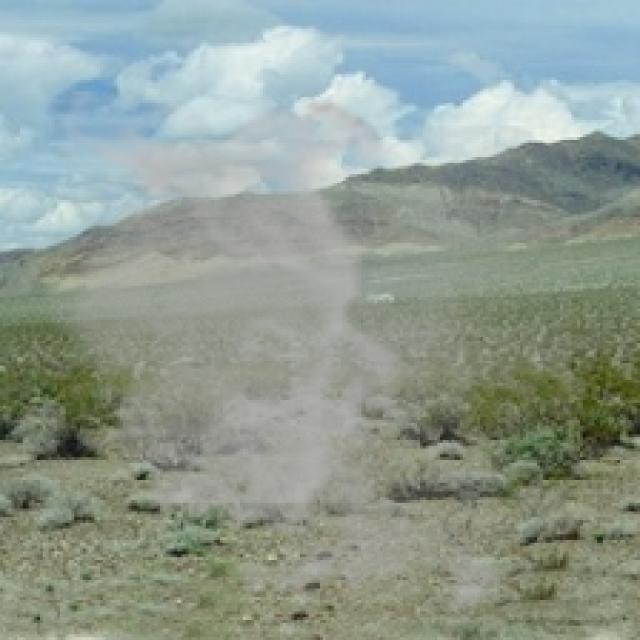smoke: (29, 91, 572, 632)
